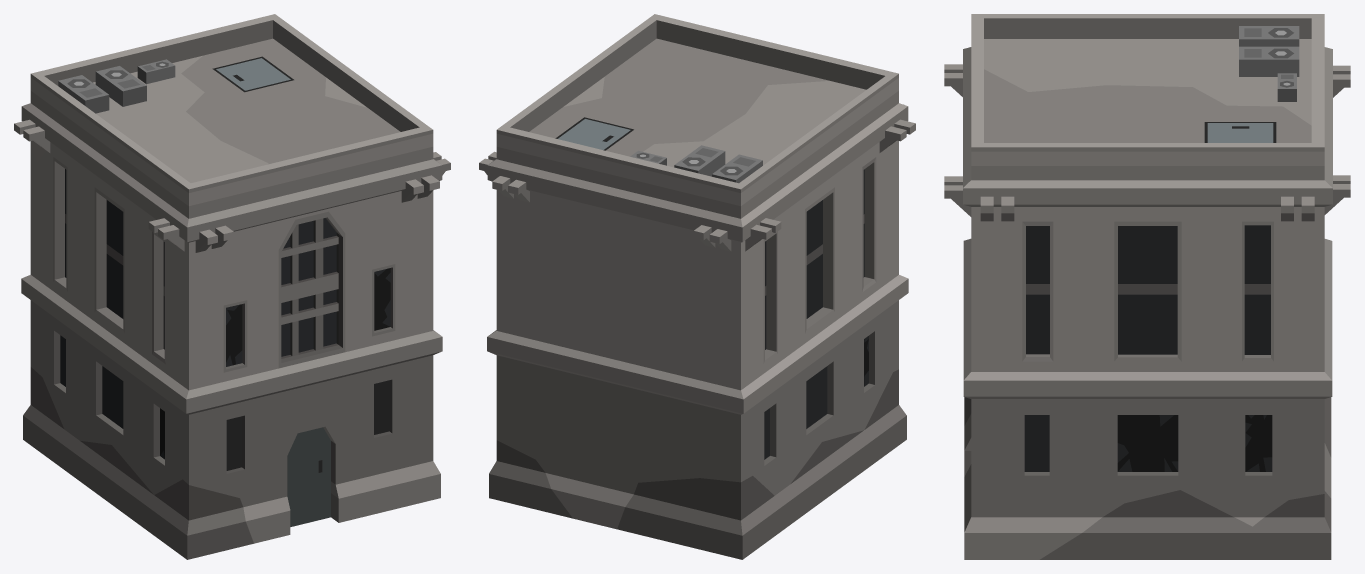
The model's file is SA_Bld_WarehouseOld_Damaged_03.gltf.
The picture shows the model from 3 angles, left to right: view 1: azimuth 30°, elevation 25°; view 2: azimuth 150°, elevation 25°; view 3: azimuth 270°, elevation 25°; orthographic projection. The views are drawn at different scales.
Parts seen in each view (by area): view 1: SA_Bld_WarehouseOld_Damaged_03; view 2: SA_Bld_WarehouseOld_Damaged_03; view 3: SA_Bld_WarehouseOld_Damaged_03.
Part boxes in pixels (bbox=[...]): SA_Bld_WarehouseOld_Damaged_03: bbox=[14, 14, 450, 559]; SA_Bld_WarehouseOld_Damaged_03: bbox=[479, 14, 915, 559]; SA_Bld_WarehouseOld_Damaged_03: bbox=[944, 14, 1350, 559].
Bounding box in the file's own units: 13.59 × 16.6 × 14.91.
Materials: 1 (1 with a texture image).
